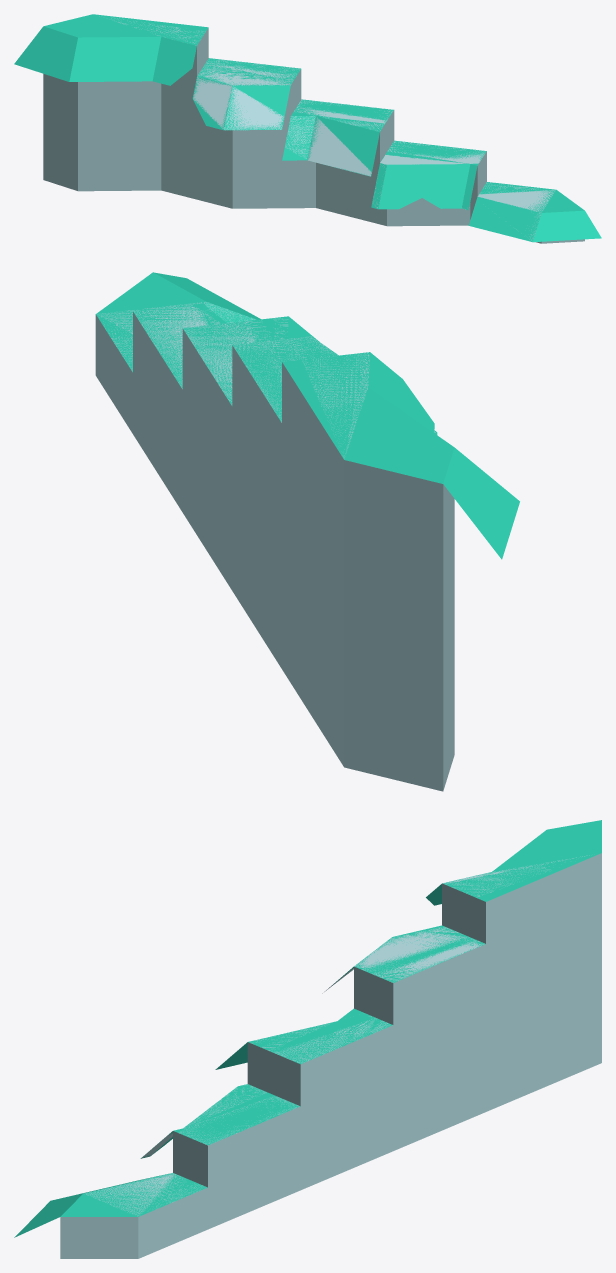
File: cliff_stairBorderDiagonal_lower_left_stone.fbx
3 views of the same model, one above another, from view 1: azimuth 30°, elevation 25°; view 2: azimuth 150°, elevation 25°; view 3: azimuth 270°, elevation 25° (orthographic). The views are drawn at different scales.
Parts seen in each view (by area): view 1: cliff_topDiagonal_stone; view 2: cliff_topDiagonal_stone; view 3: cliff_topDiagonal_stone.
Part boxes in pixels (bbox=[...]): cliff_topDiagonal_stone: bbox=[14, 14, 601, 243]; cliff_topDiagonal_stone: bbox=[95, 272, 519, 791]; cliff_topDiagonal_stone: bbox=[14, 820, 601, 1258].
Size of the model in its own units: 12.68 by 5 by 12.68.
